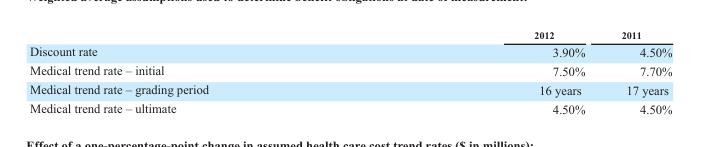table: (28, 29, 671, 115)
table column: (28, 29, 370, 115), (370, 29, 602, 115), (602, 29, 671, 115)
table column header: (28, 29, 671, 42)
table row: (28, 42, 671, 61), (28, 79, 671, 98), (28, 61, 671, 79), (28, 98, 671, 115), (28, 29, 671, 42)
